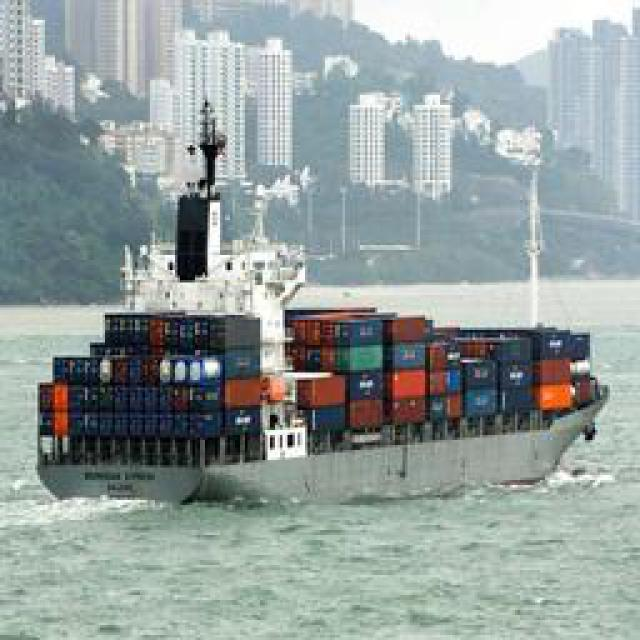Ship: (46, 163, 611, 501)
